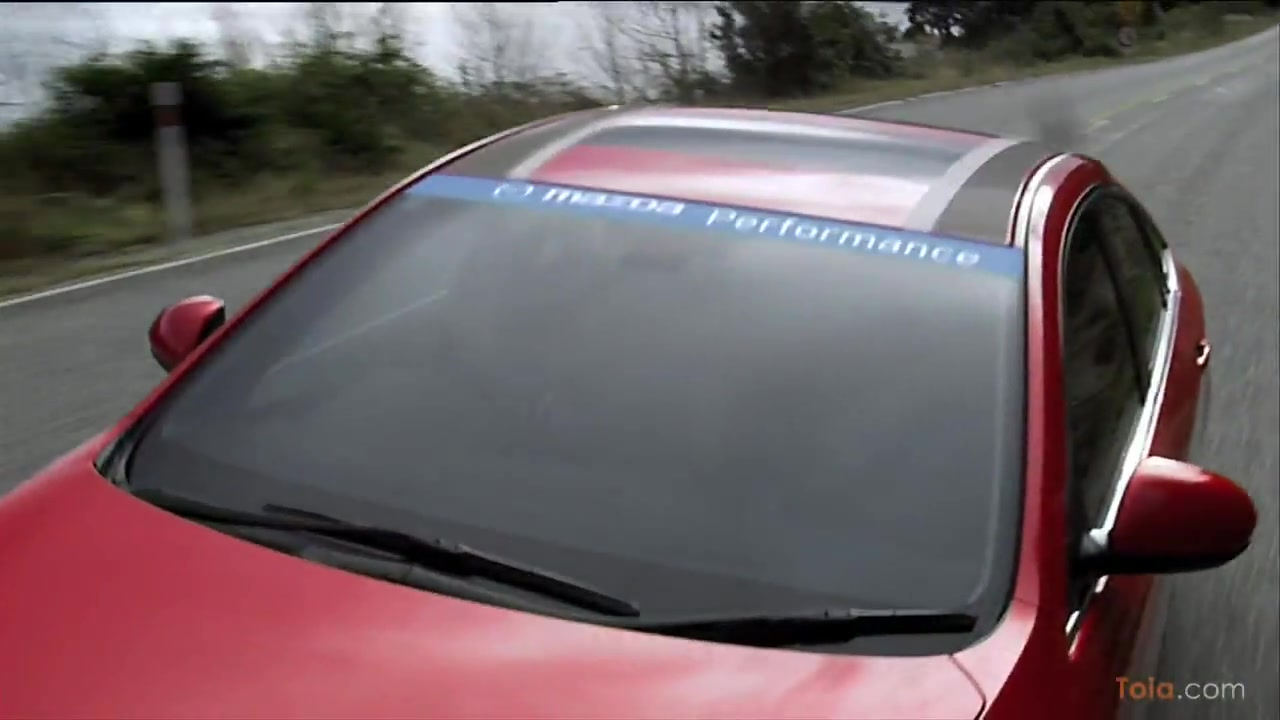car: (3, 109, 1267, 720)
